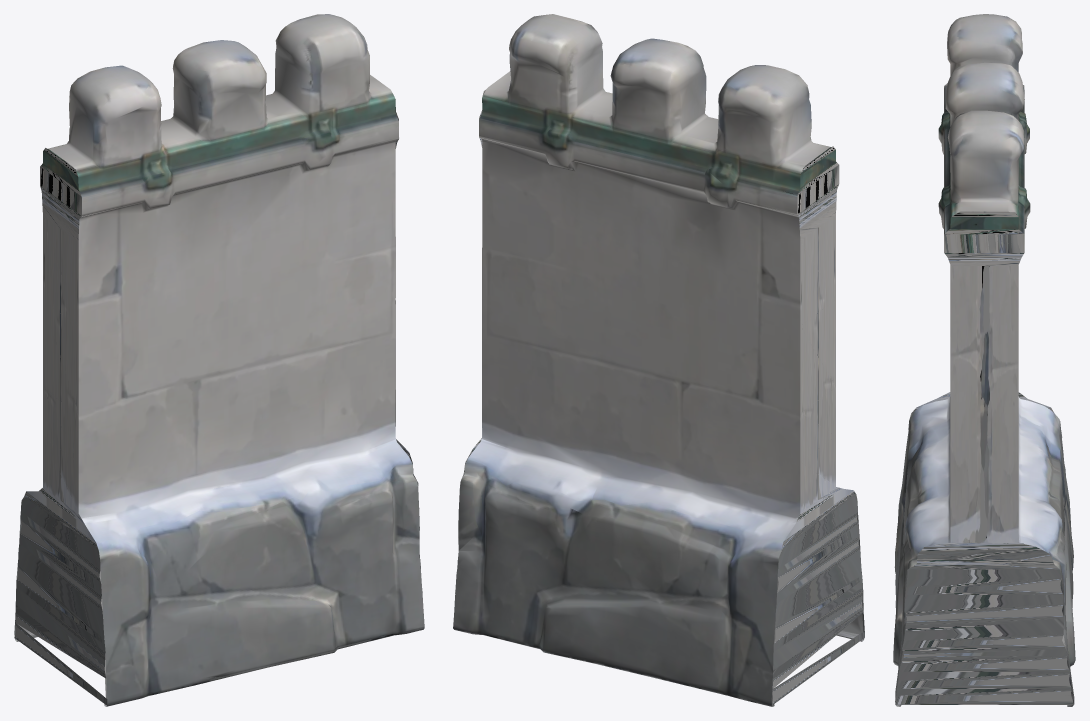
The model's file is SM_Tripo_FrostRampartPlainPanel.glb.
3 views of the same model, side by side, from view 1: azimuth 30°, elevation 25°; view 2: azimuth 150°, elevation 25°; view 3: azimuth 270°, elevation 25° (orthographic). The views are drawn at different scales.
Parts seen in each view (by area): view 1: SM_Tripo_FrostRampartPlainPanel_LOD0; view 2: SM_Tripo_FrostRampartPlainPanel_LOD0; view 3: SM_Tripo_FrostRampartPlainPanel_LOD0.
Boxes of the visible parts, left/top/right/bottom form: SM_Tripo_FrostRampartPlainPanel_LOD0: left=14, top=14, right=424, bottom=706; SM_Tripo_FrostRampartPlainPanel_LOD0: left=453, top=14, right=864, bottom=706; SM_Tripo_FrostRampartPlainPanel_LOD0: left=893, top=14, right=1075, bottom=706.
Size of the model in its own units: 4.9 by 8.65 by 2.54.
1 material, 1 textured.
